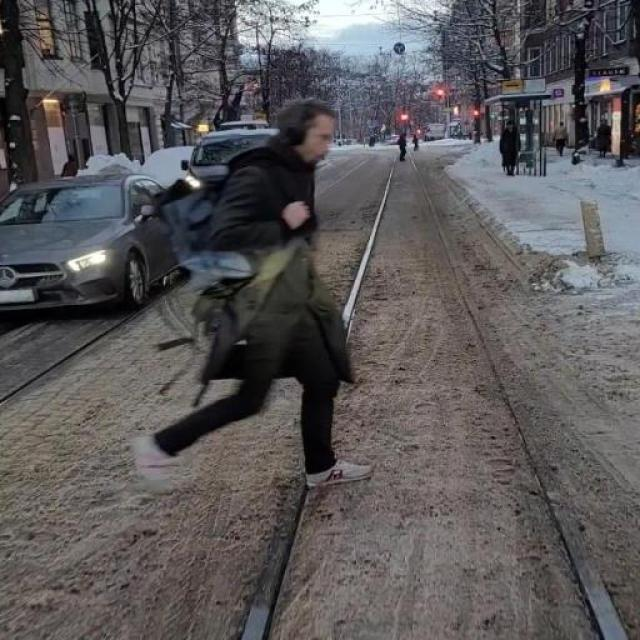people: (159, 95, 366, 500)
vehicle: (0, 167, 176, 302), (168, 119, 285, 196)
